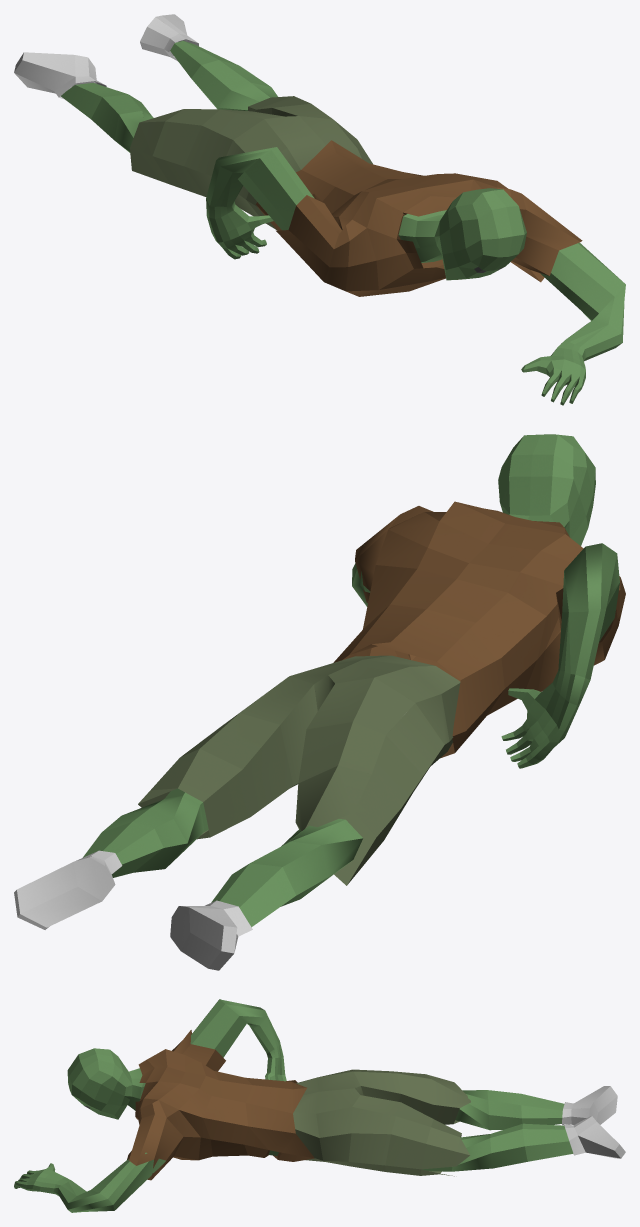
Rendered from ZombieCrawl(60).obj.
3 renders of one model, top to bottom at view 1: azimuth 30°, elevation 25°; view 2: azimuth 150°, elevation 25°; view 3: azimuth 270°, elevation 25°, orthographic. The views are drawn at different scales.
Parts seen in each view (by area): view 1: Object001; view 2: Object001; view 3: Object001.
Part boxes in pixels (box(x1,y1,x2,y2)): Object001: box(14, 14, 625, 405); Object001: box(14, 434, 625, 970); Object001: box(14, 999, 625, 1212).
Size of the model in its own units: 27.81 by 16.69 by 68.09.
